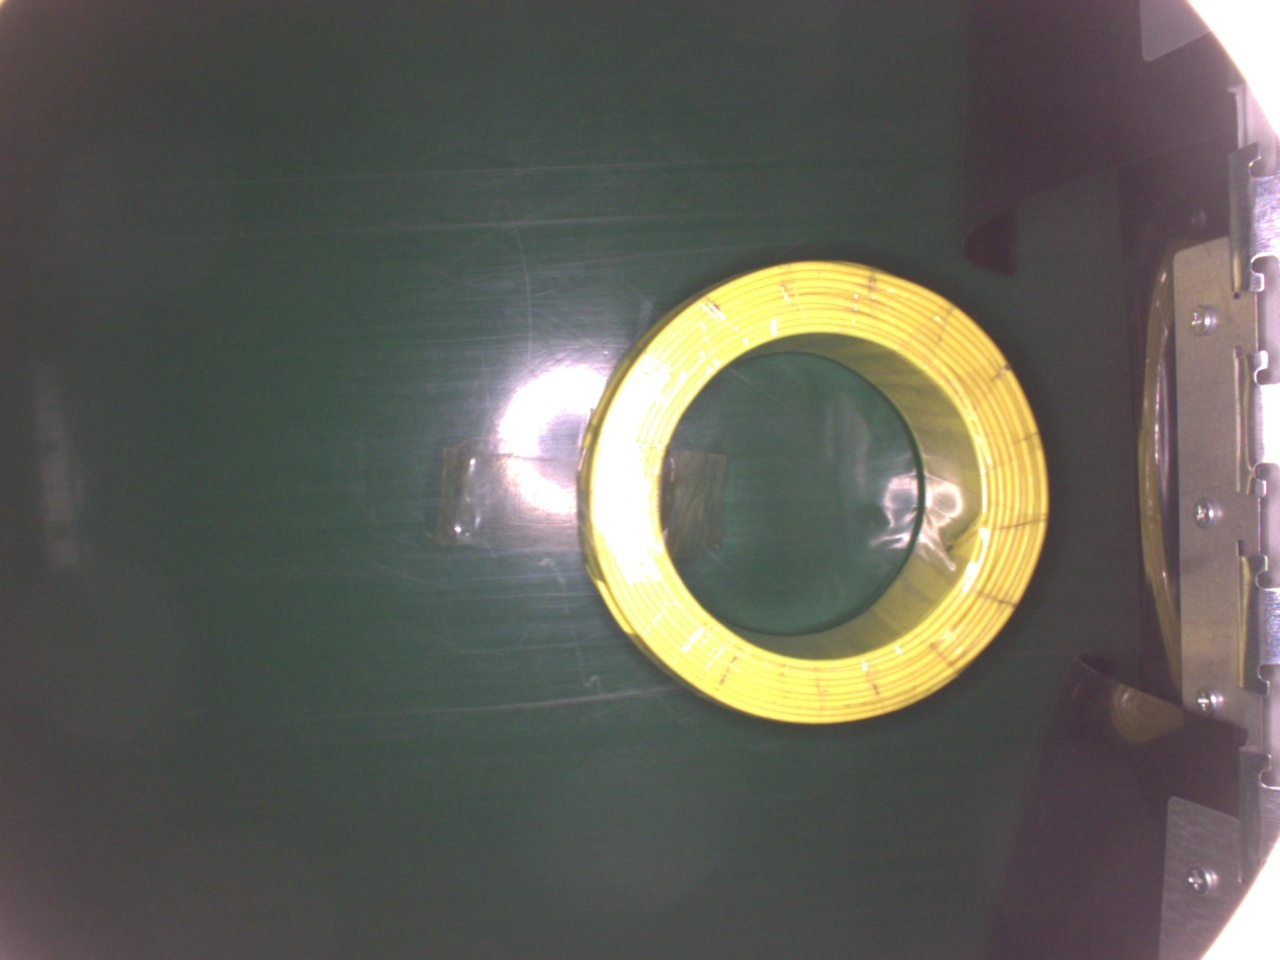yellow: (574, 256, 1052, 727)
